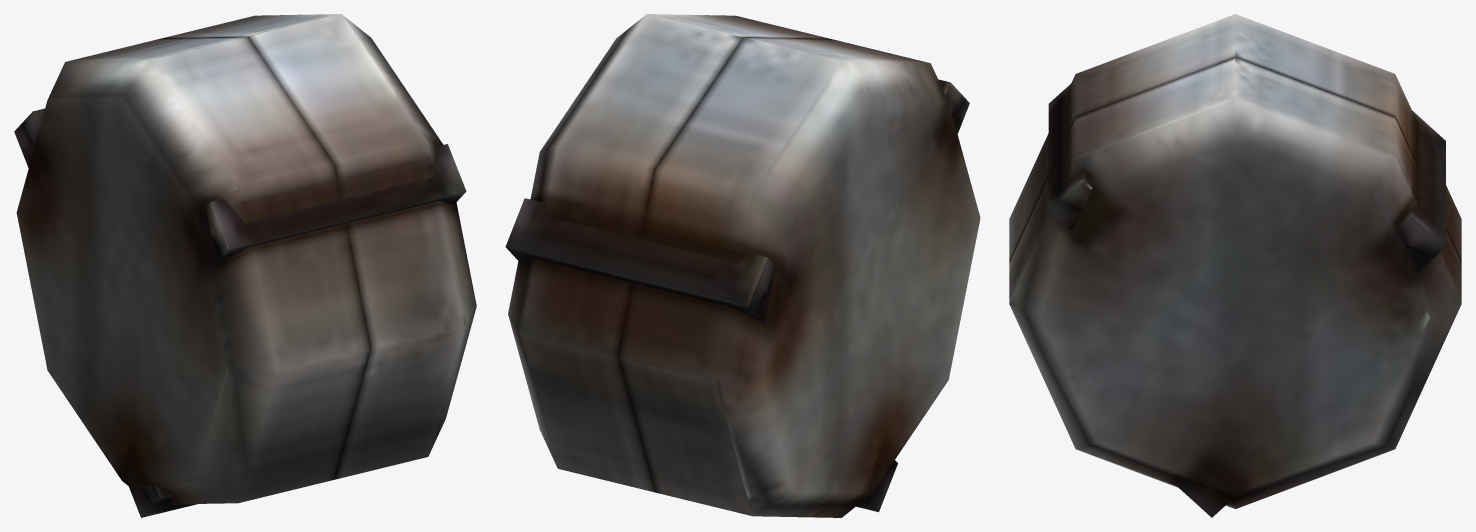
Rendered from cano_flange.glb.
3 renders of one model, left to right at view 1: azimuth 30°, elevation 25°; view 2: azimuth 150°, elevation 25°; view 3: azimuth 270°, elevation 25°, orthographic. The views are drawn at different scales.
Visible parts, largest first — view 1: cano_flange; view 2: cano_flange; view 3: cano_flange.
Boxes of the visible parts, <box> form: cano_flange: <box>14,14,476,517</box>; cano_flange: <box>505,14,980,517</box>; cano_flange: <box>1009,14,1461,517</box>.
Size of the model in its own units: 0.1 by 0.1704 by 0.1704.
Materials: 1 (1 with a texture image).
